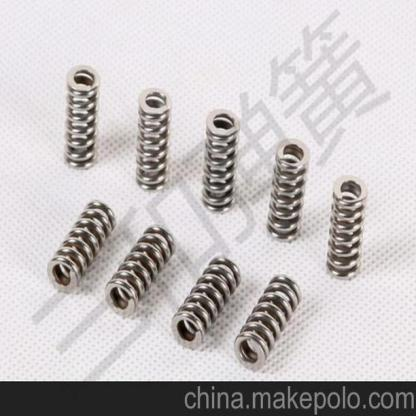FOD: (102, 222, 177, 320), (232, 271, 304, 373), (169, 254, 244, 351), (45, 199, 117, 296), (263, 138, 313, 242), (324, 171, 370, 282), (199, 105, 242, 218), (62, 64, 104, 172), (132, 84, 172, 192)
